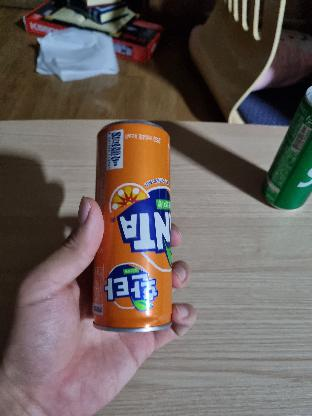Can: (98, 124, 172, 328)
